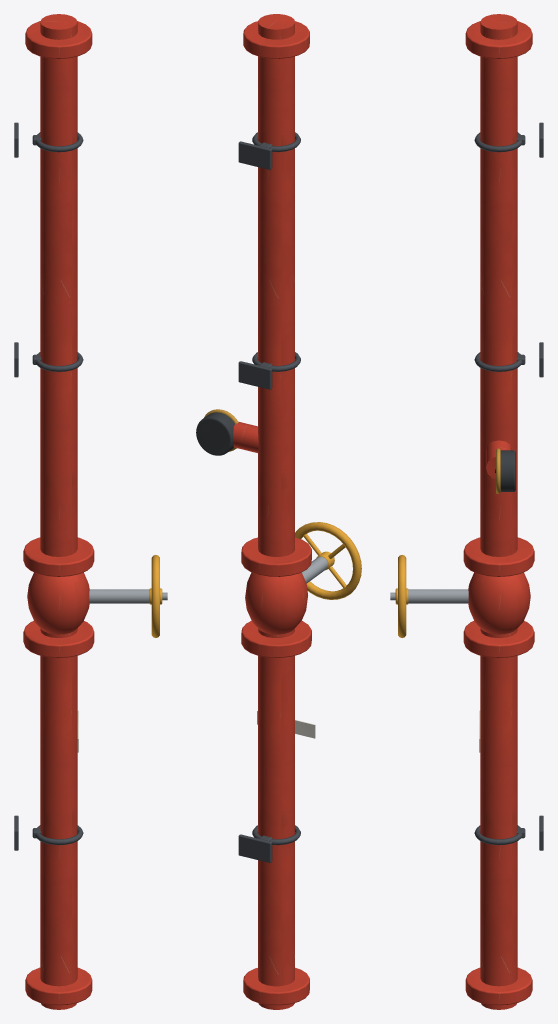
The model's file is PipeRiser.glb.
3 renders of one model, left to right at view 1: azimuth 90°, elevation 25°; view 2: azimuth 150°, elevation 25°; view 3: azimuth 270°, elevation 25°, orthographic.
Parts seen in each view (by area): view 1: PipeRiser_Body, PipeRiser_Valve; view 2: PipeRiser_Body, PipeRiser_Valve; view 3: PipeRiser_Body, PipeRiser_Valve.
Boxes of the visible parts, left/top/right/bottom form: PipeRiser_Body: left=14, top=14, right=149, bottom=1009; PipeRiser_Valve: left=149, top=555, right=167, bottom=637; PipeRiser_Body: left=196, top=14, right=328, bottom=1009; PipeRiser_Valve: left=295, top=522, right=361, bottom=599; PipeRiser_Body: left=408, top=14, right=543, bottom=1009; PipeRiser_Valve: left=390, top=555, right=408, bottom=637.
Size of the model in its own units: 0.3436 by 2.9 by 0.412.
9 materials, 5 textured.
